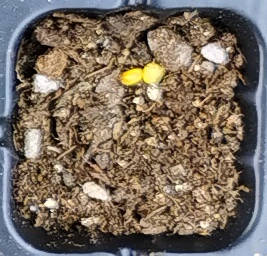pepper seed: (59, 19, 225, 105), (45, 22, 191, 110)
